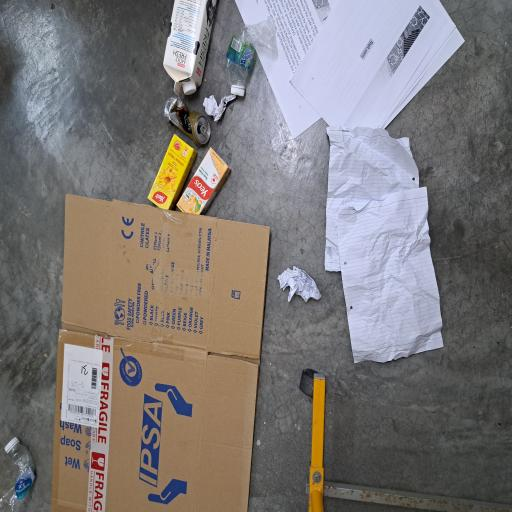can: (277, 218, 313, 280)
cardboard: (0, 61, 238, 366)
drink carton: (314, 216, 384, 290), (221, 235, 273, 309), (226, 197, 284, 262)
paper: (280, 310, 384, 512), (110, 432, 289, 512), (152, 366, 185, 428), (293, 270, 315, 314)
plastic bottle: (0, 0, 62, 53)
plastic bottle cap: (44, 5, 59, 33), (313, 242, 325, 263), (312, 308, 320, 326)
pop tab: (282, 266, 290, 278)
